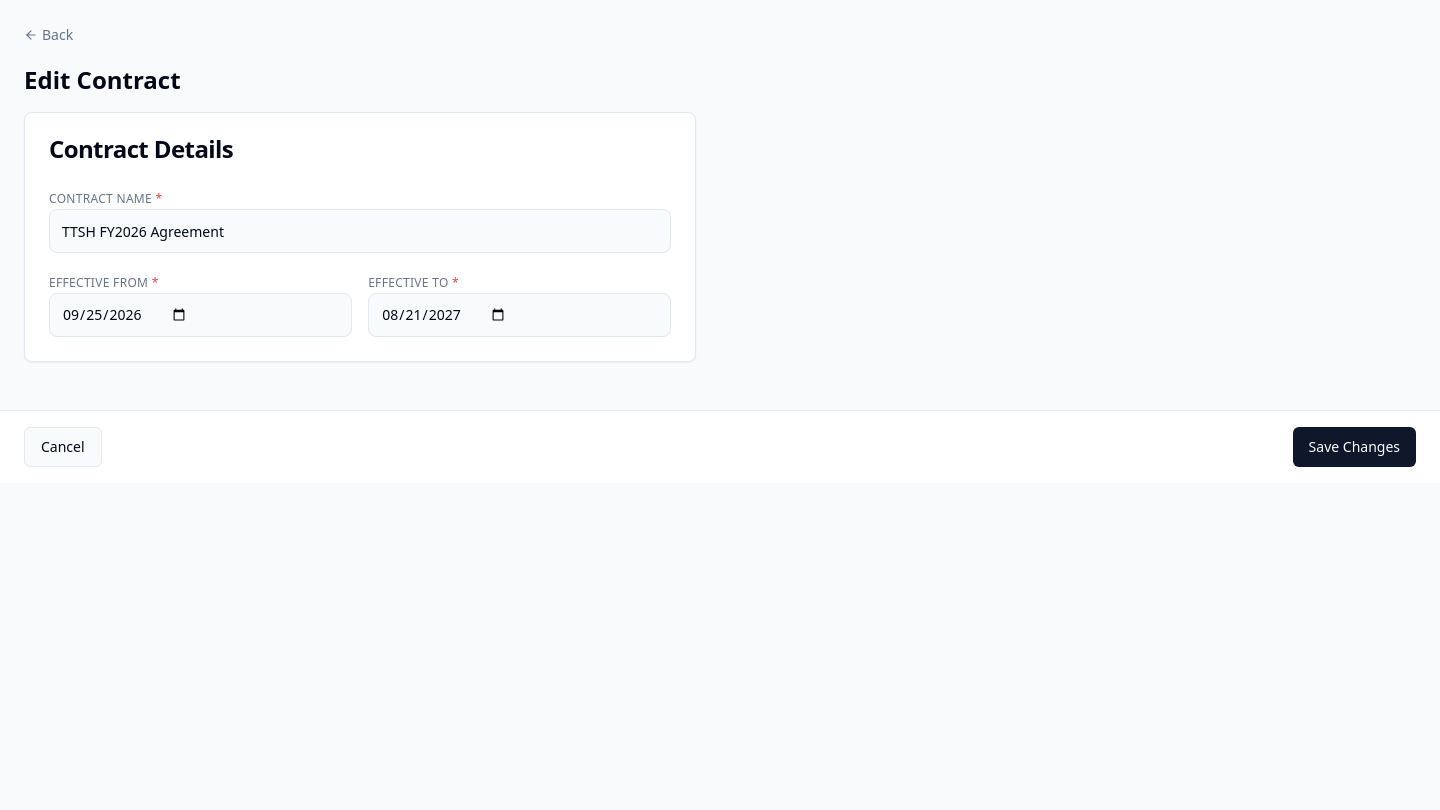
ContractFormPage - edit mode › re-sends with acknowledge_matched_invoices when the user confirms
Expected: the heading "Edit Contract" is shown, left=24, top=63, right=181, bottom=96
Click the button "Save Changes".
click(1354, 447)  # box left=1293, top=427, right=1416, bottom=467
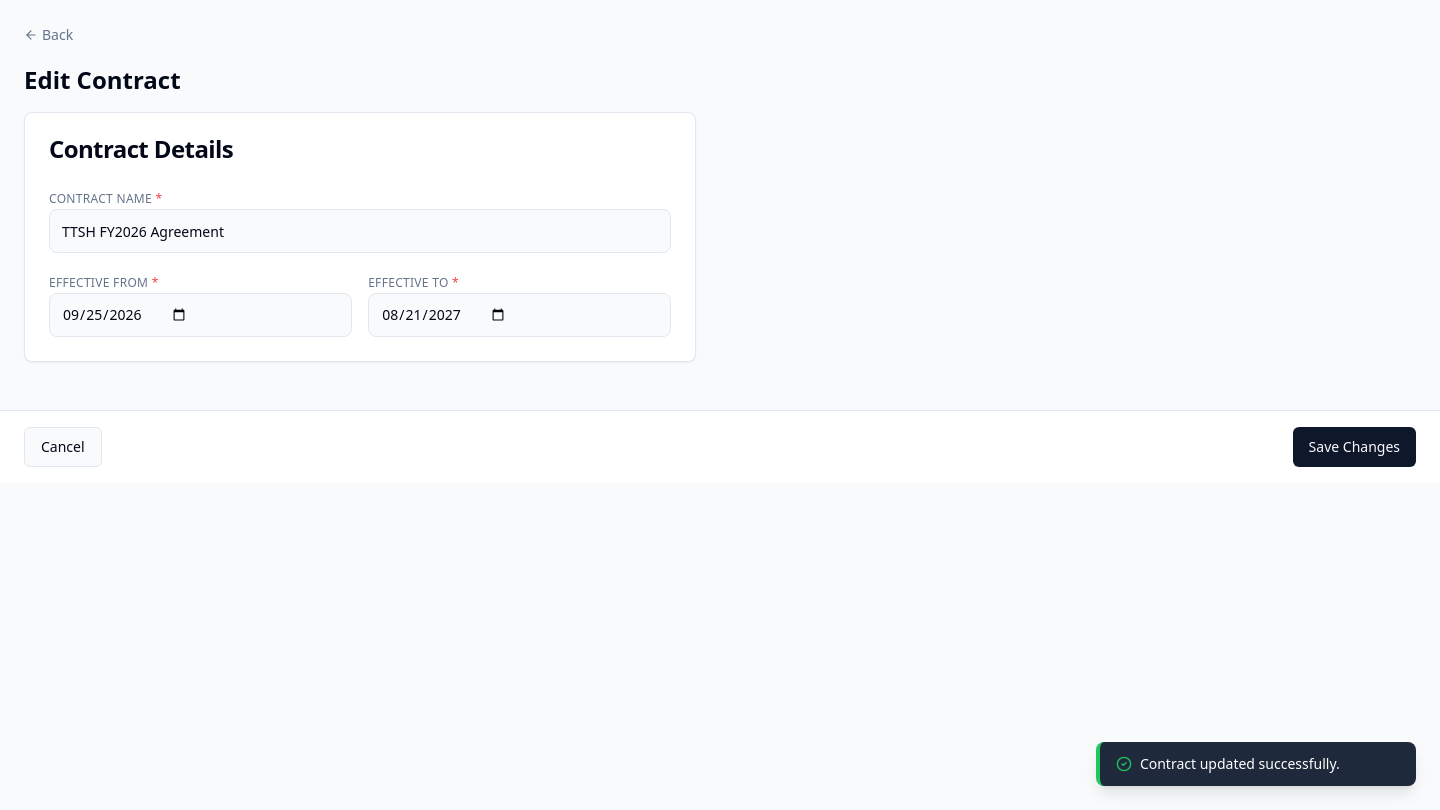
Expected: the text "Contract updated successfully." is shown, left=1140, top=754, right=1340, bottom=773
